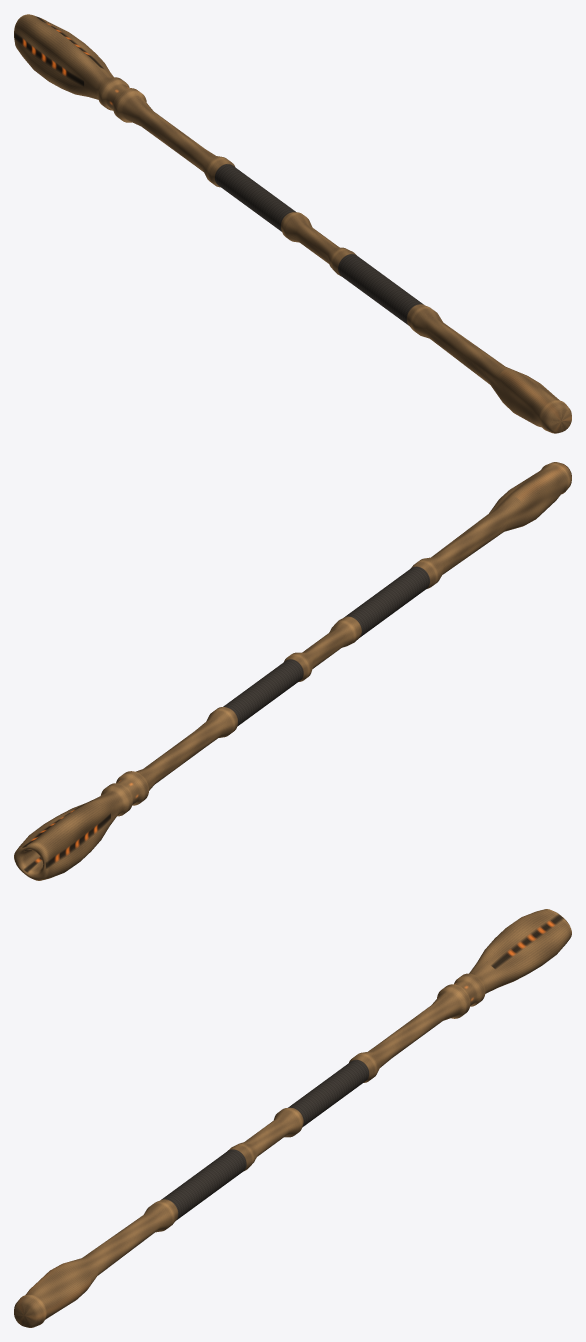
Rendered from tri_vane_staff.glb.
3 renders of one model, top to bottom at view 1: azimuth 30°, elevation 25°; view 2: azimuth 150°, elevation 25°; view 3: azimuth 330°, elevation 25°, orthographic.
Visible parts, largest first — view 1: StaffBody; view 2: StaffBody; view 3: StaffBody.
Boxes of the visible parts, x1=… form: StaffBody: x1=14, y1=14, x2=571, y2=433; StaffBody: x1=14, y1=462, x2=571, y2=880; StaffBody: x1=14, y1=909, x2=571, y2=1327.
Size of the model in its own units: 0.0764 by 0.0824 by 1.64.
1 material, 1 textured.
